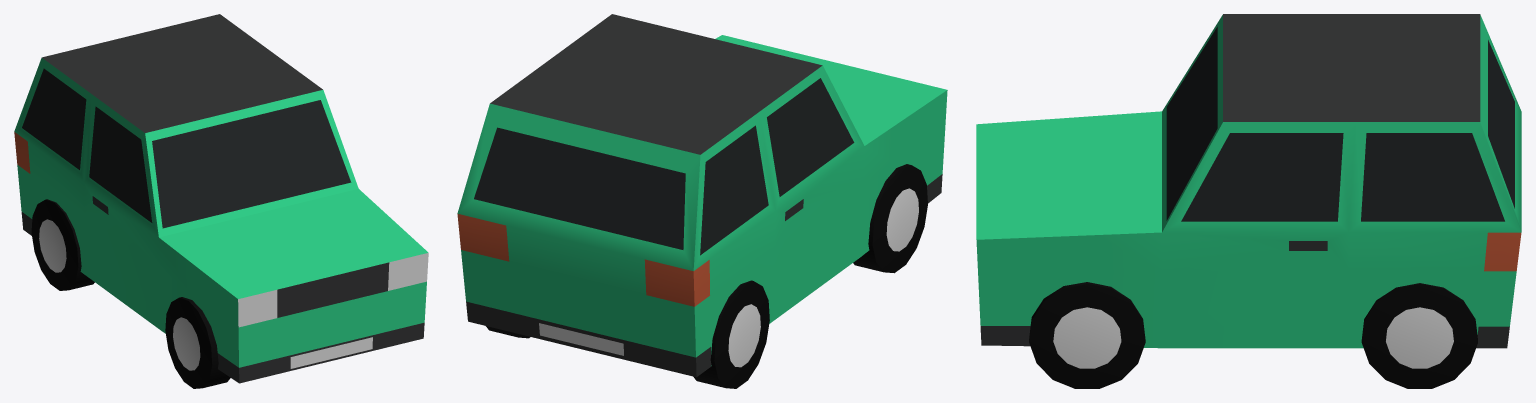
File: Car1.fbx
3 renders of one model, left to right at view 1: azimuth 30°, elevation 25°; view 2: azimuth 150°, elevation 25°; view 3: azimuth 270°, elevation 25°, orthographic. The views are drawn at different scales.
Visible parts, largest first — view 1: Body2, WheelRL4, WheelRL2; view 2: Body2, WheelRL4, WheelRL2; view 3: Body2, WheelRL3, WheelRL1.
Part boxes in pixels (left/top/right/bottom): Body2: left=14, top=14, right=428, bottom=383; WheelRL4: left=165, top=297, right=230, bottom=388; WheelRL2: left=31, top=199, right=94, bottom=290; Body2: left=457, top=14, right=947, bottom=377; WheelRL4: left=853, top=164, right=927, bottom=273; WheelRL2: left=693, top=280, right=769, bottom=388; Body2: left=976, top=14, right=1521, bottom=348; WheelRL3: left=1029, top=282, right=1145, bottom=388; WheelRL1: left=1361, top=283, right=1477, bottom=388.
Bounding box in the file's own units: 2.56 × 2.5 × 4.75.
